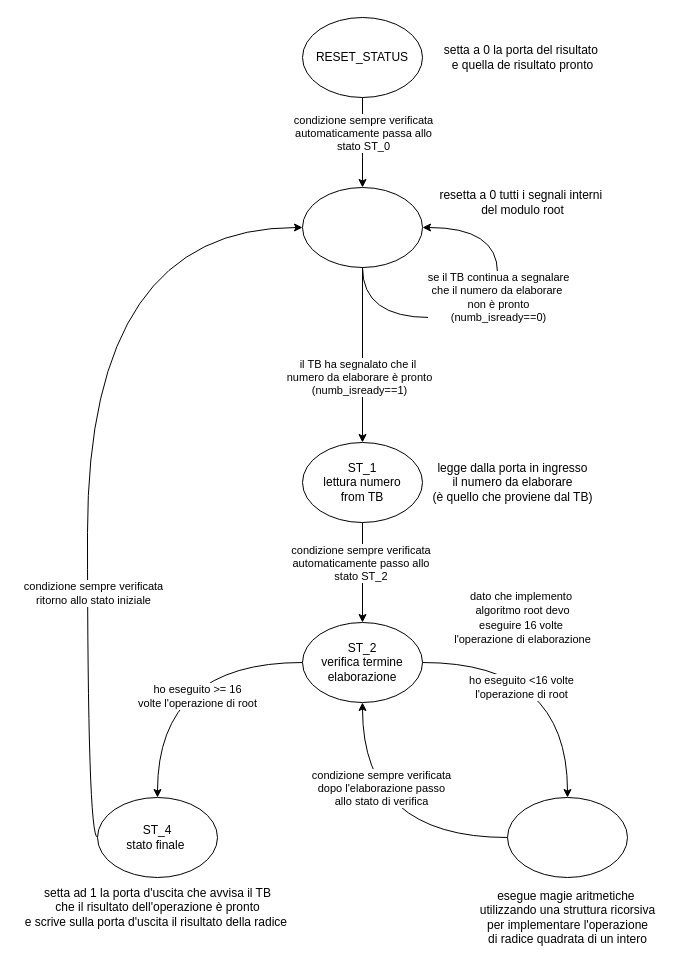
This 679x965 diagram has some shape labels left out. Each missing label, with the centre of its shape:
"ST_0 stato inizializzatore" belongs at (362,227).
"ST_3 stato che esegue l'elaborazione" belongs at (567,837).
